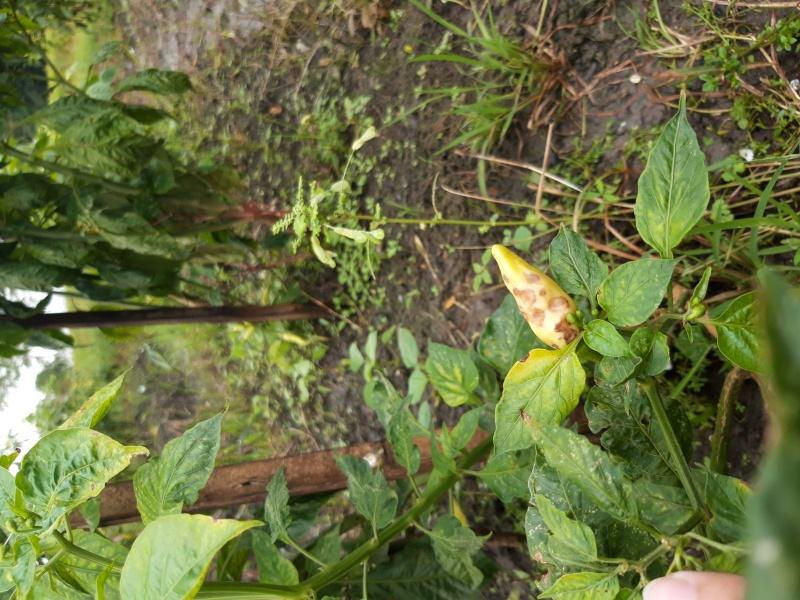antraknosa: (490, 243, 578, 350)
